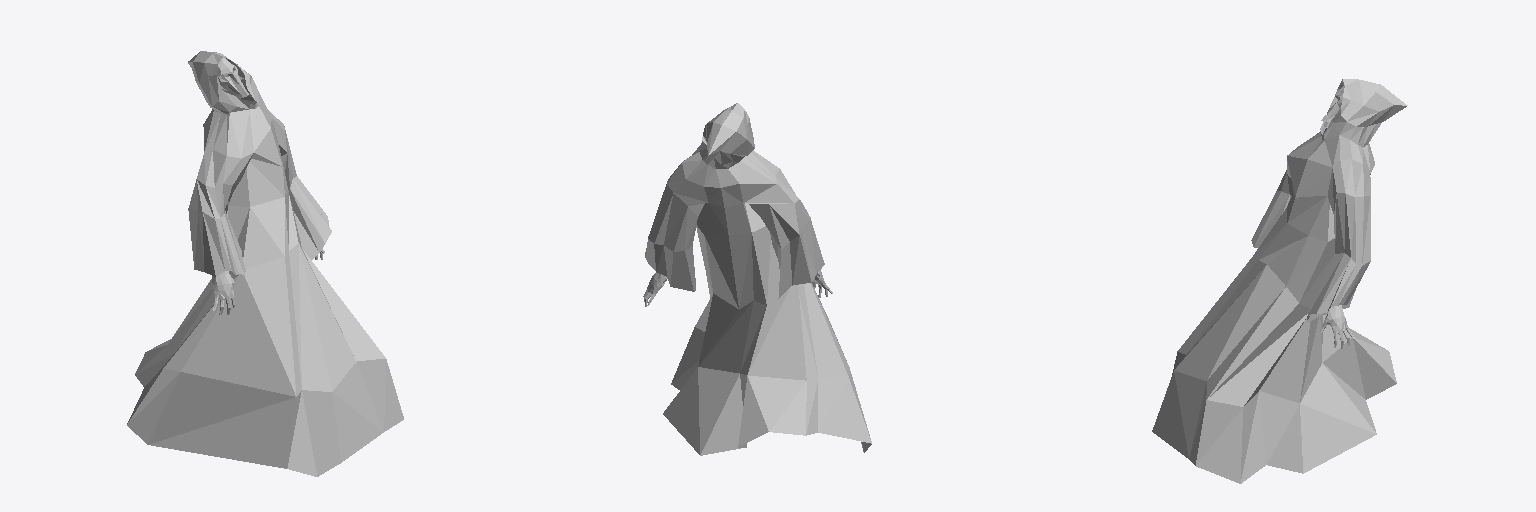
File: ReaperDead(44).obj
3 renders of one model, left to right at view 1: azimuth 30°, elevation 25°; view 2: azimuth 150°, elevation 25°; view 3: azimuth 270°, elevation 25°, orthographic.
Parts seen in each view (by area): view 1: Plane003; view 2: Plane003; view 3: Plane003.
Boxes of the visible parts, x1,y1,x2,y2 form: Plane003: [127, 51, 403, 476]; Plane003: [643, 103, 871, 455]; Plane003: [1152, 79, 1407, 483].
Size of the model in its own units: 139 by 201 by 132.